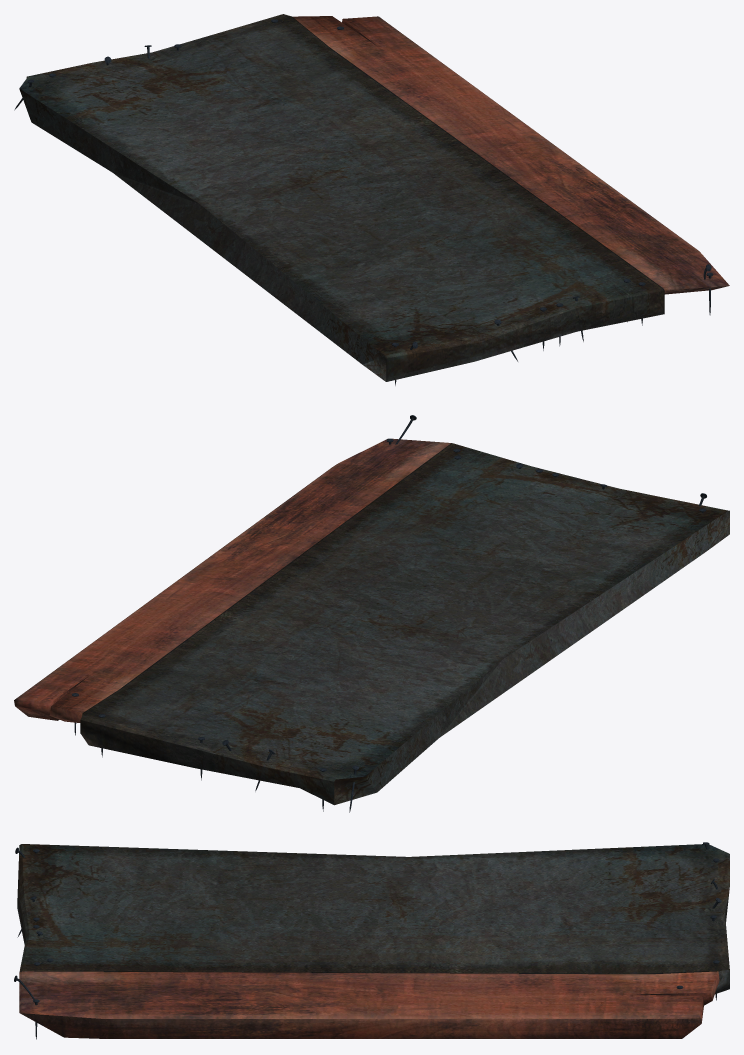
The model's file is table_waitroom_damaged02.dae.
The picture shows the model from 3 angles, top to bottom: view 1: azimuth 30°, elevation 25°; view 2: azimuth 150°, elevation 25°; view 3: azimuth 270°, elevation 25°; orthographic projection. The views are drawn at different scales.
Parts seen in each view (by area): view 1: polySurface222; view 2: polySurface222; view 3: polySurface222.
Boxes of the visible parts, bbox=[...] form: polySurface222: bbox=[14, 14, 729, 385]; polySurface222: bbox=[14, 415, 729, 812]; polySurface222: bbox=[14, 842, 729, 1039].
Size of the model in its own units: 111 by 18.85 by 206.
